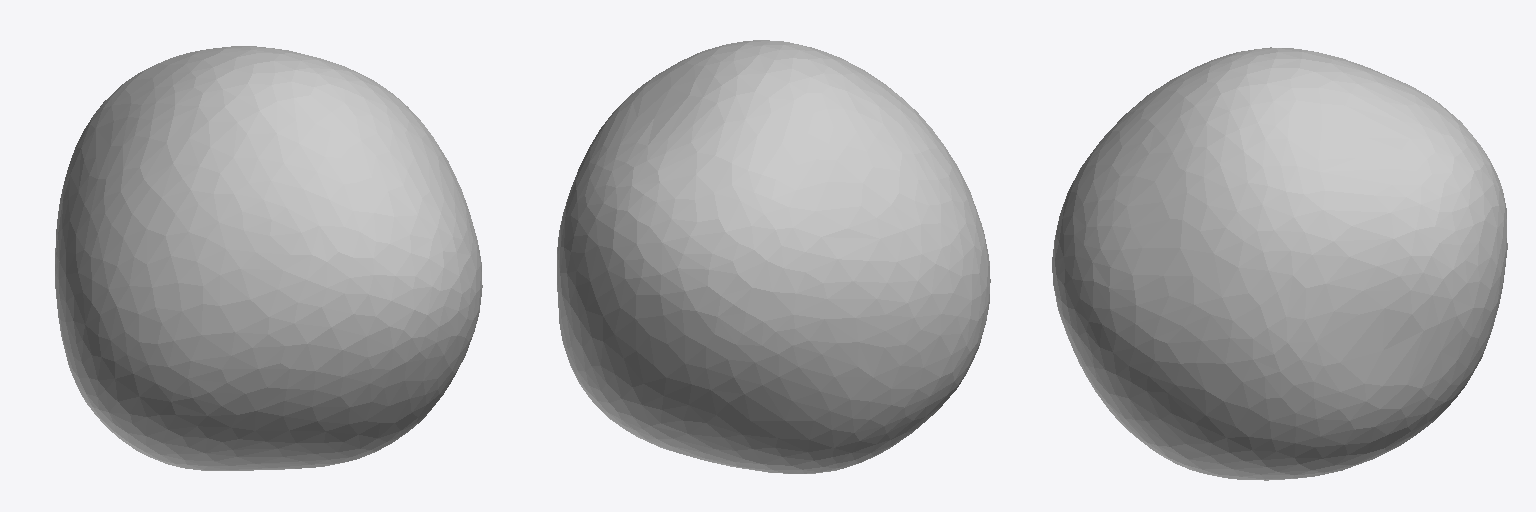
The model's file is moon_1.obj.
3 views of the same model, side by side, from view 1: azimuth 30°, elevation 25°; view 2: azimuth 150°, elevation 25°; view 3: azimuth 270°, elevation 25° (orthographic).
Size of the model in its own units: 4.2 by 4.17 by 4.41.